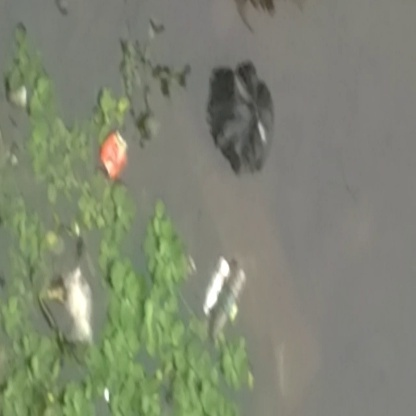plastic-bag: (202, 57, 287, 176)
